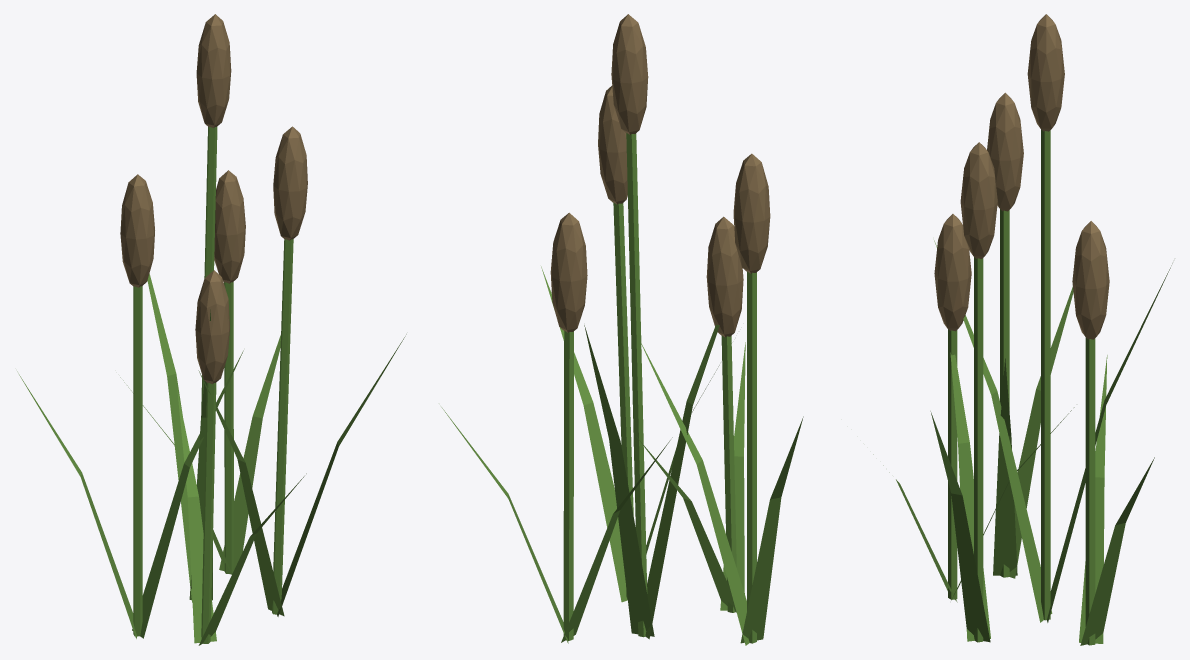
File: reeds.glb
3 renders of one model, left to right at view 1: azimuth 30°, elevation 25°; view 2: azimuth 150°, elevation 25°; view 3: azimuth 270°, elevation 25°, orthographic. The views are drawn at different scales.
Visible parts, largest first — view 1: Reed_2_mesh, Reed_0_mesh, Reed_3_mesh, Reed_4_mesh, Reed_1_mesh; view 2: Reed_1_mesh, Reed_0_mesh, Reed_3_mesh, Reed_4_mesh, Reed_2_mesh; view 3: Reed_1_mesh, Reed_2_mesh, Reed_4_mesh, Reed_0_mesh, Reed_3_mesh.
Part boxes in pixels (<box>): Reed_2_mesh: <box>198,126,406,616</box>; Reed_0_mesh: <box>17,174,243,638</box>; Reed_3_mesh: <box>177,270,306,645</box>; Reed_4_mesh: <box>120,170,280,574</box>; Reed_1_mesh: <box>147,14,231,602</box>; Reed_1_mesh: <box>584,14,719,639</box>; Reed_0_mesh: <box>641,153,803,645</box>; Reed_3_mesh: <box>637,216,745,612</box>; Reed_4_mesh: <box>441,212,672,643</box>; Reed_2_mesh: <box>541,85,719,602</box>; Reed_1_mesh: <box>934,14,1172,622</box>; Reed_2_mesh: <box>930,142,997,642</box>; Reed_4_mesh: <box>1072,221,1154,645</box>; Reed_0_mesh: <box>987,92,1073,578</box>; Reed_3_mesh: <box>873,214,1074,602</box>.
Size of the model in its own units: 1.04 by 1.81 by 0.9211.
